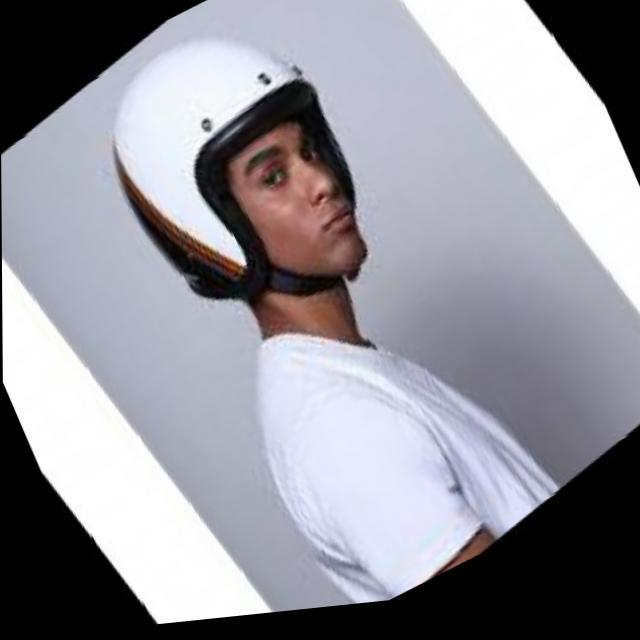Helmet: (103, 32, 380, 311)
